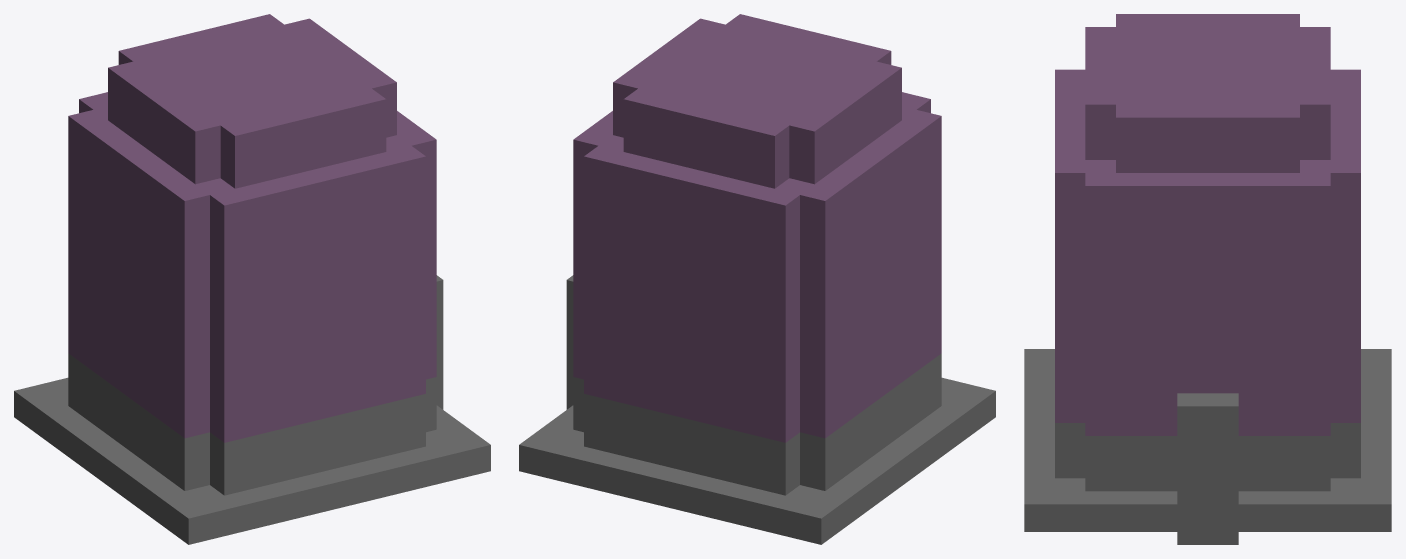
Rendered from Lift-2.fbx.
3 renders of one model, left to right at view 1: azimuth 30°, elevation 25°; view 2: azimuth 150°, elevation 25°; view 3: azimuth 270°, elevation 25°, orthographic. The views are drawn at different scales.
Visible parts, largest first — view 1: ObjObject.001, ObjObject; view 2: ObjObject.001, ObjObject; view 3: ObjObject.001, ObjObject.
Part boxes in pixels (left/top/right/bottom): ObjObject.001: left=68, top=14, right=436, bottom=442; ObjObject: left=14, top=275, right=490, bottom=544; ObjObject.001: left=573, top=14, right=941, bottom=442; ObjObject: left=519, top=275, right=995, bottom=544; ObjObject.001: left=1055, top=14, right=1360, bottom=435; ObjObject: left=1024, top=349, right=1391, bottom=544.
Bounding box in the file's own units: 45.49 × 48.99 × 41.99.
